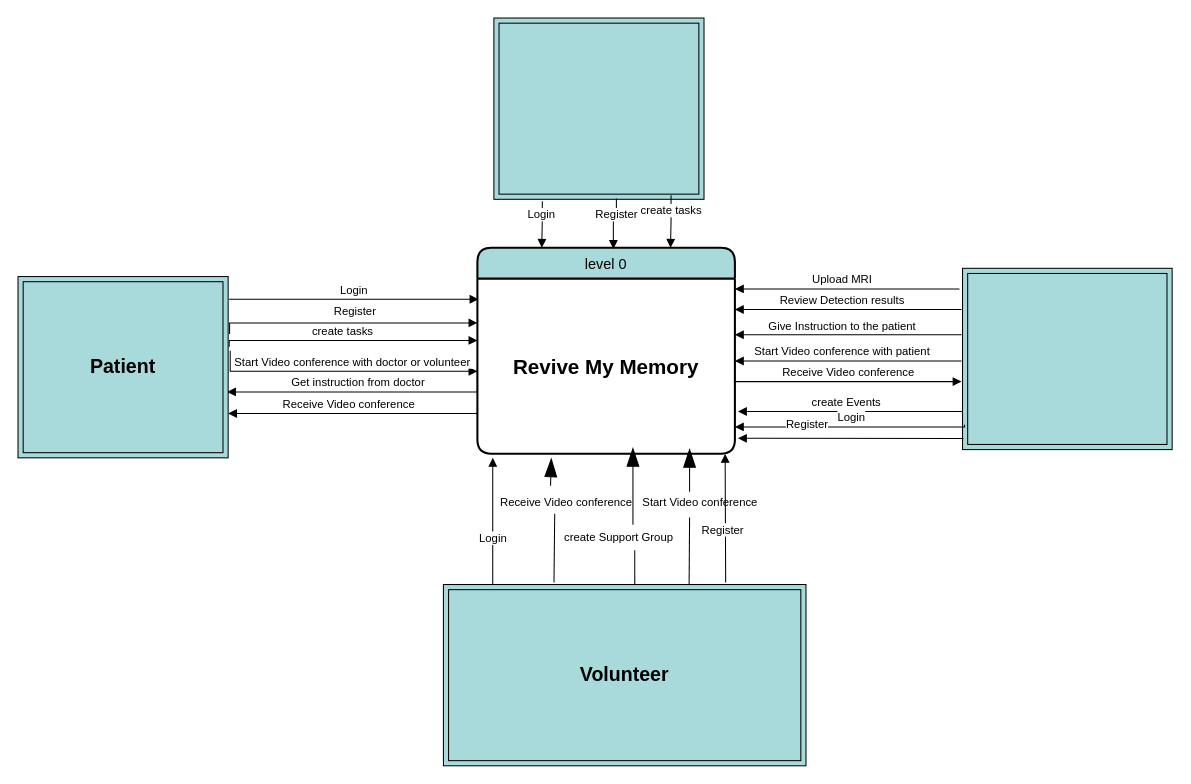
The diagram is 1191 pixels wide and 784 high, and some of its shapes have lost their labels. The box of each missing label's shape, as (x1, y1, x2, y2) in pixels:
Carer: (493, 17, 704, 199)
Doctor: (962, 267, 1172, 450)
